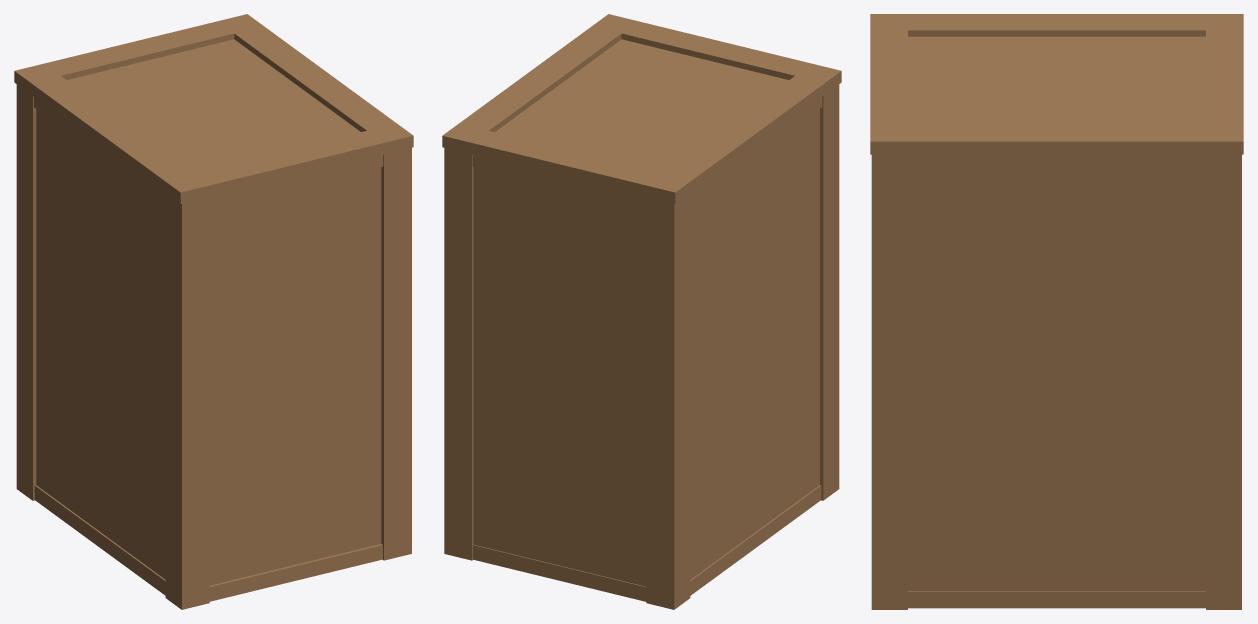
The model's file is flasket.FBX.
3 renders of one model, left to right at view 1: azimuth 30°, elevation 25°; view 2: azimuth 150°, elevation 25°; view 3: azimuth 270°, elevation 25°, orthographic. The views are drawn at different scales.
Parts seen in each view (by area): view 1: flasket; view 2: flasket; view 3: flasket.
Part boxes in pixels (x1,y1,x2,y2): flasket: [14, 14, 413, 609]; flasket: [442, 14, 841, 609]; flasket: [870, 14, 1243, 609].
Size of the model in its own units: 0.5274 by 0.9043 by 0.6518.
